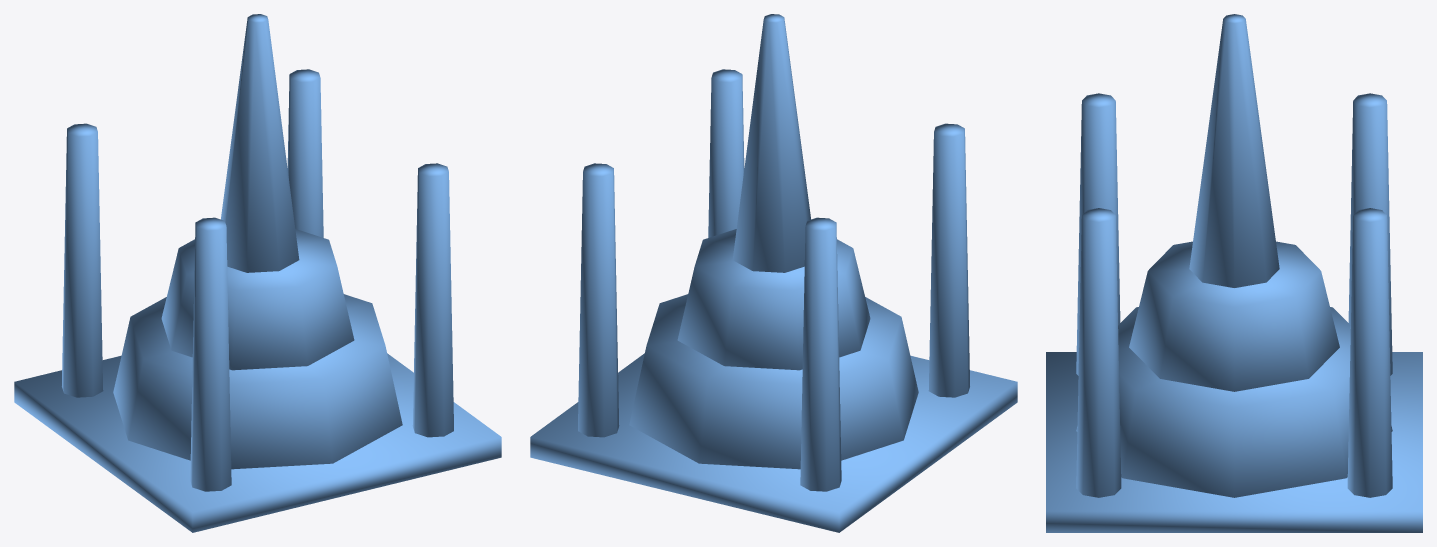
The model's file is hunter-awakening-altar.glb.
3 renders of one model, left to right at view 1: azimuth 30°, elevation 25°; view 2: azimuth 150°, elevation 25°; view 3: azimuth 270°, elevation 25°, orthographic. The views are drawn at different scales.
Visible parts, largest first — view 1: hunter-awakening-altar; view 2: hunter-awakening-altar; view 3: hunter-awakening-altar.
Boxes of the visible parts, bbox=[...] form: hunter-awakening-altar: bbox=[14, 14, 501, 532]; hunter-awakening-altar: bbox=[530, 14, 1017, 532]; hunter-awakening-altar: bbox=[1046, 14, 1422, 532].
Bounding box in the file's own units: 2.2 × 2.8 × 2.2.
